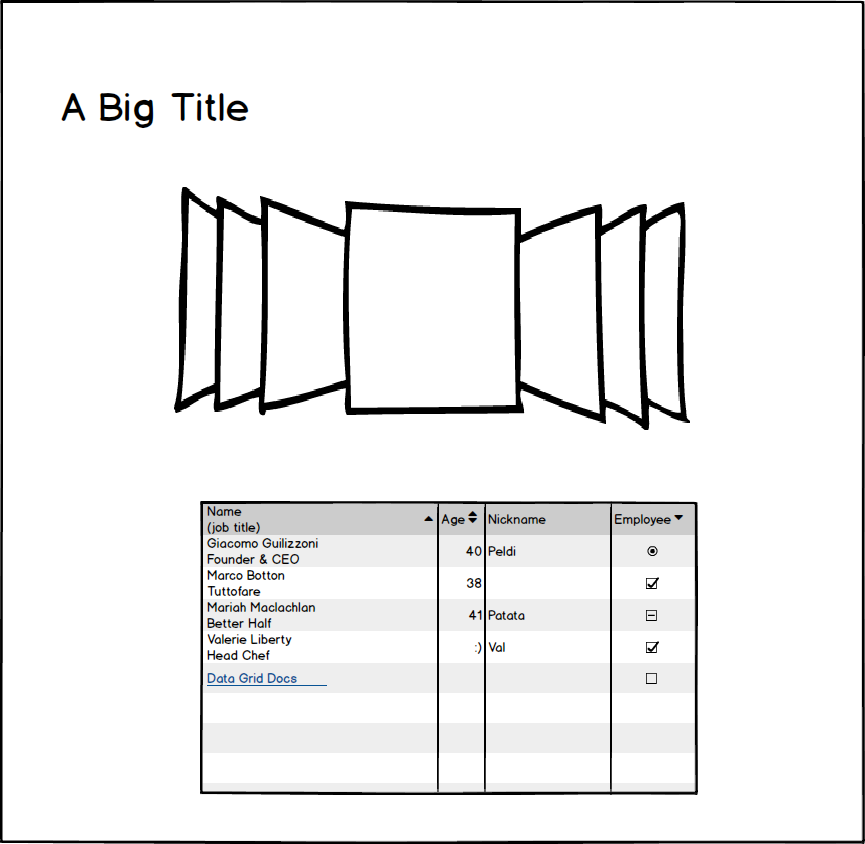h1: (50, 73, 262, 138)
slideshow: (168, 171, 696, 438)
table: (186, 493, 703, 805)
